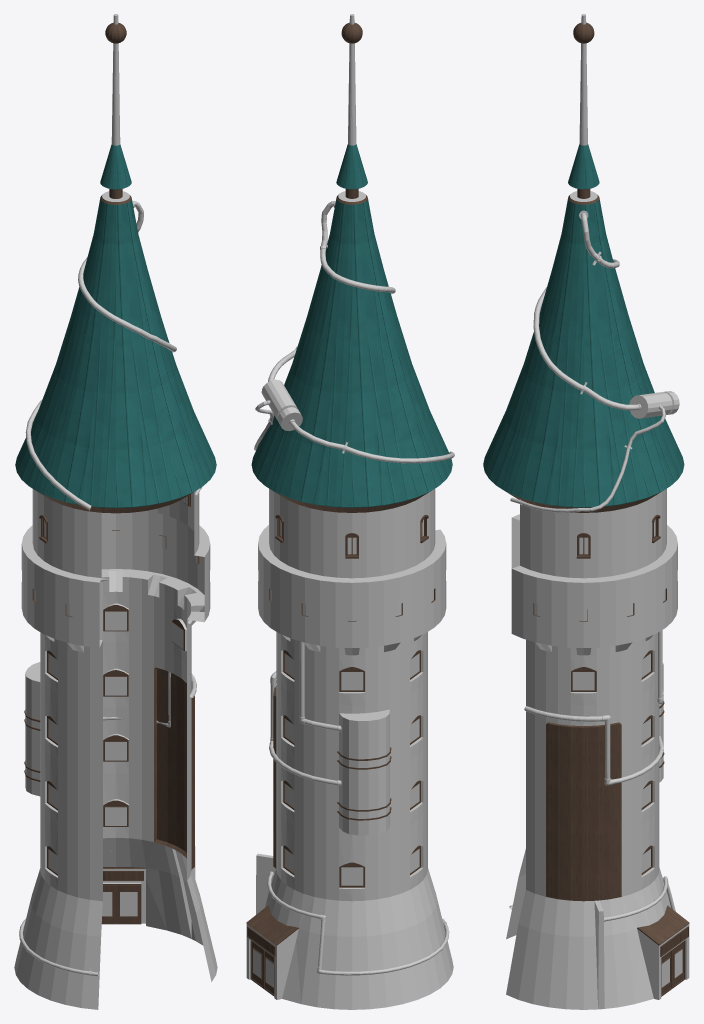
Rendered from REDUCTION_SM_ENV_KNVLLG_AreaH_Tower_B_1.mo.fbx.
3 views of the same model, side by side, from view 1: azimuth 30°, elevation 25°; view 2: azimuth 150°, elevation 25°; view 3: azimuth 270°, elevation 25° (orthographic).
Parts seen in each view (by area): view 1: REDUCTION_SM_ENV_KNVLLG_AreaH_Tower_B_1.mo; view 2: REDUCTION_SM_ENV_KNVLLG_AreaH_Tower_B_1.mo; view 3: REDUCTION_SM_ENV_KNVLLG_AreaH_Tower_B_1.mo.
Boxes of the visible parts, x1,y1,x2,y2 form: REDUCTION_SM_ENV_KNVLLG_AreaH_Tower_B_1.mo: [14, 14, 217, 1009]; REDUCTION_SM_ENV_KNVLLG_AreaH_Tower_B_1.mo: [246, 14, 454, 1009]; REDUCTION_SM_ENV_KNVLLG_AreaH_Tower_B_1.mo: [483, 14, 689, 1009].
Bounding box in the file's own units: 16.07 × 82.44 × 16.22.
